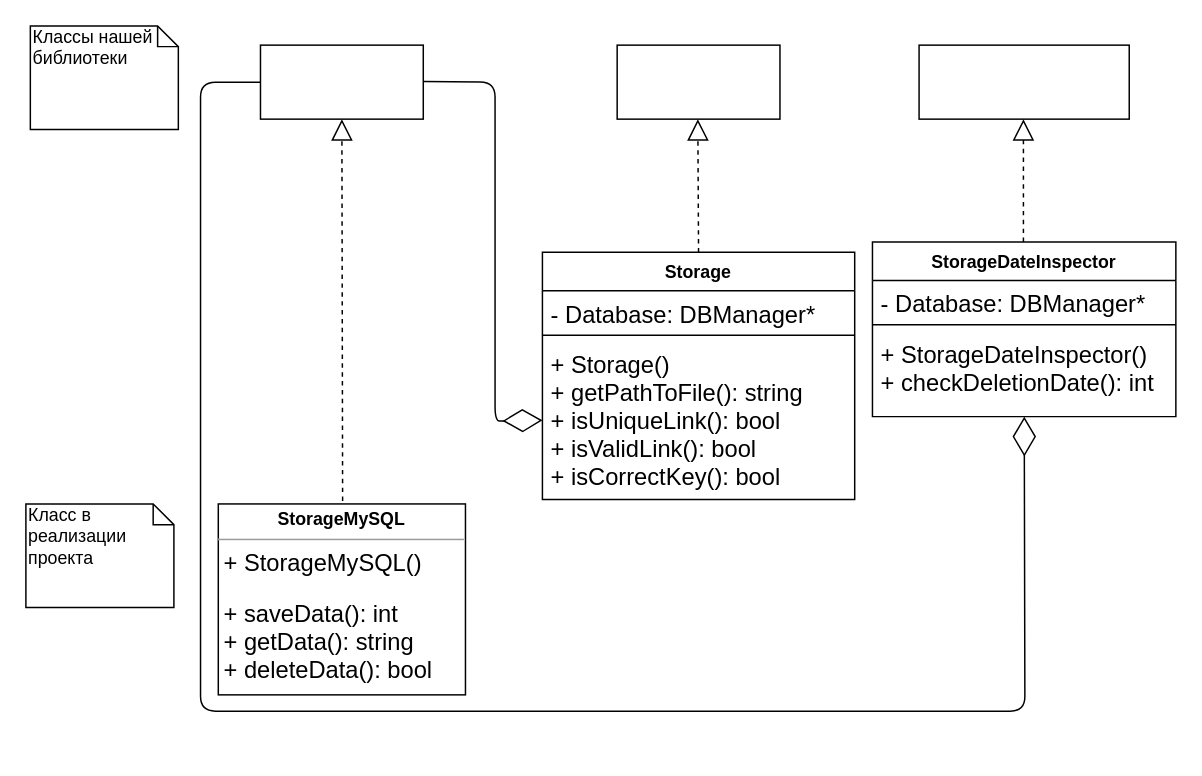
The diagram is 1202 pixels wide and 776 high, and some of its shapes have lost their labels. Here are the shapes that lost their labels. From the top down, the centre of each, then its label:
At (x=341, y=81): "«interface» IDBManager".
At (x=698, y=81): "«interface» IStorage".
At (x=1023, y=81): "«interface» IStorageDateInspector".
